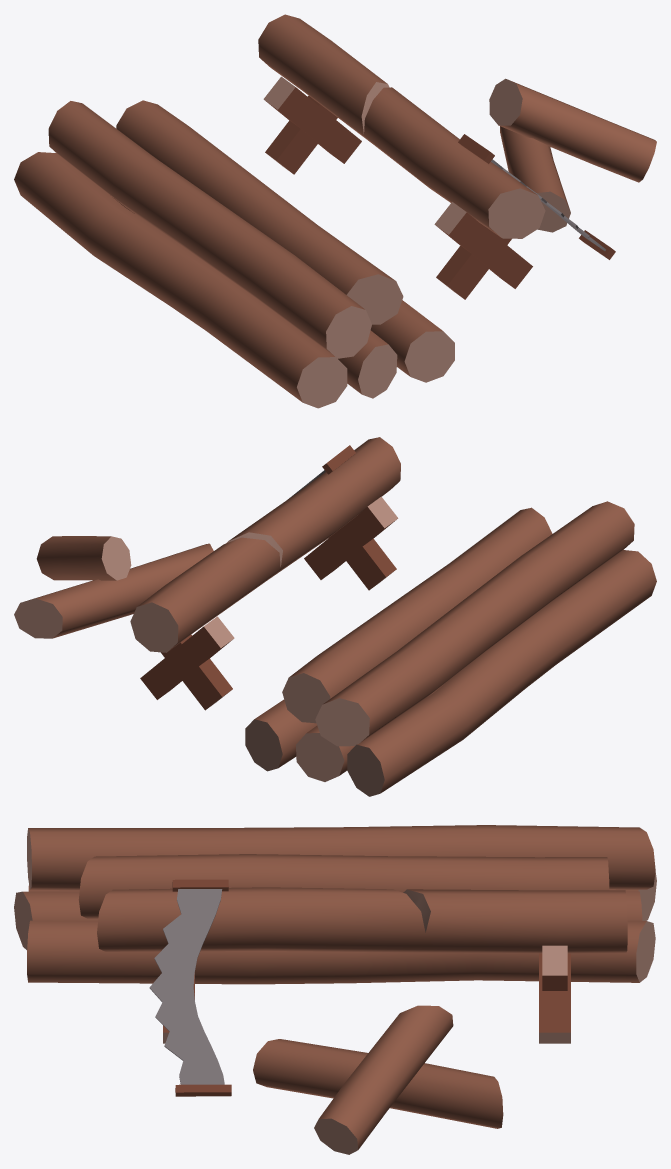
The model's file is quaternius-pirate-environment-sawmill.glb.
The picture shows the model from 3 angles, top to bottom: view 1: azimuth 30°, elevation 25°; view 2: azimuth 150°, elevation 25°; view 3: azimuth 270°, elevation 25°; orthographic projection. The views are drawn at different scales.
Parts seen in each view (by area): view 1: Environment_Sawmill; view 2: Environment_Sawmill; view 3: Environment_Sawmill.
Part boxes in pixels (box(x1,y1,x2,y2)): Environment_Sawmill: box(14, 14, 656, 408); Environment_Sawmill: box(14, 437, 656, 796); Environment_Sawmill: box(14, 825, 656, 1154).
Bounding box in the file's own units: 2.07 × 0.5935 × 2.06.
Materials: 1 (1 with a texture image).
